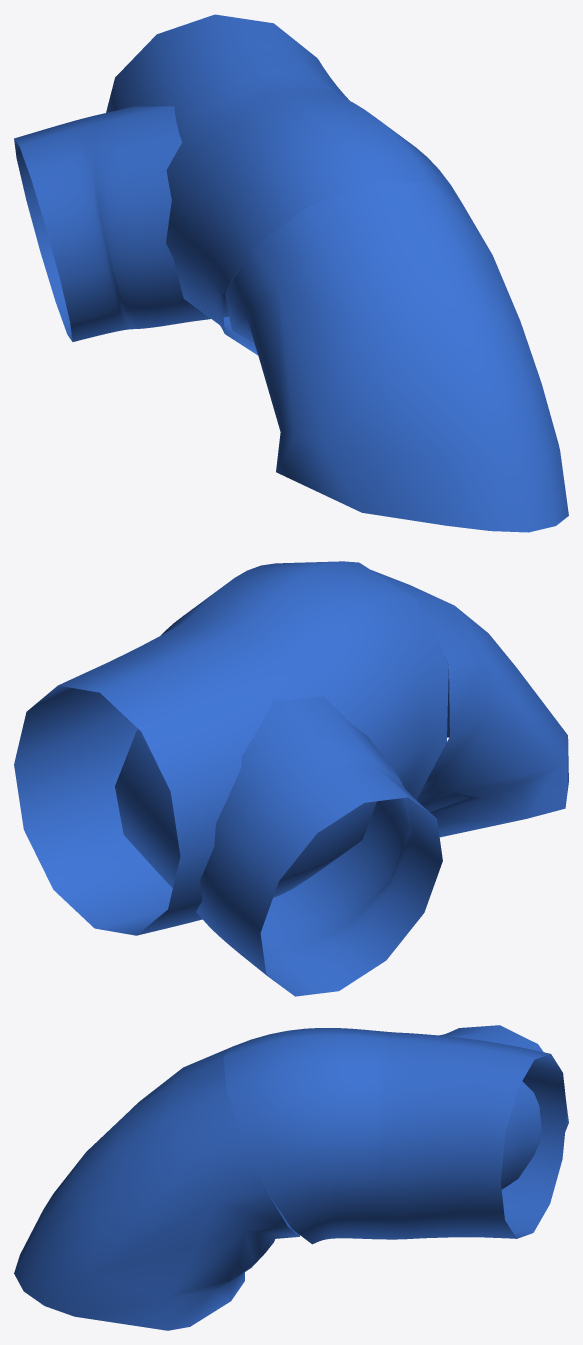
File: circulatorio-pulmonary-trunk.glb
3 renders of one model, top to bottom at view 1: azimuth 30°, elevation 25°; view 2: azimuth 150°, elevation 25°; view 3: azimuth 270°, elevation 25°, orthographic. The views are drawn at different scales.
Visible parts, largest first — view 1: Pulmonary trunk, Bifurcation of pulmonary trunk; view 2: Bifurcation of pulmonary trunk, Pulmonary trunk; view 3: Bifurcation of pulmonary trunk, Pulmonary trunk.
Part boxes in pixels (x1,y1,x2,y2): Pulmonary trunk: (225,181,568,532); Bifurcation of pulmonary trunk: (14,14,461,355); Bifurcation of pulmonary trunk: (14,561,448,996); Pulmonary trunk: (371,570,568,837); Bifurcation of pulmonary trunk: (223,1025,568,1244); Pulmonary trunk: (14,1046,299,1330).
Size of the model in its own units: 0.04 by 0.0359 by 0.072.
